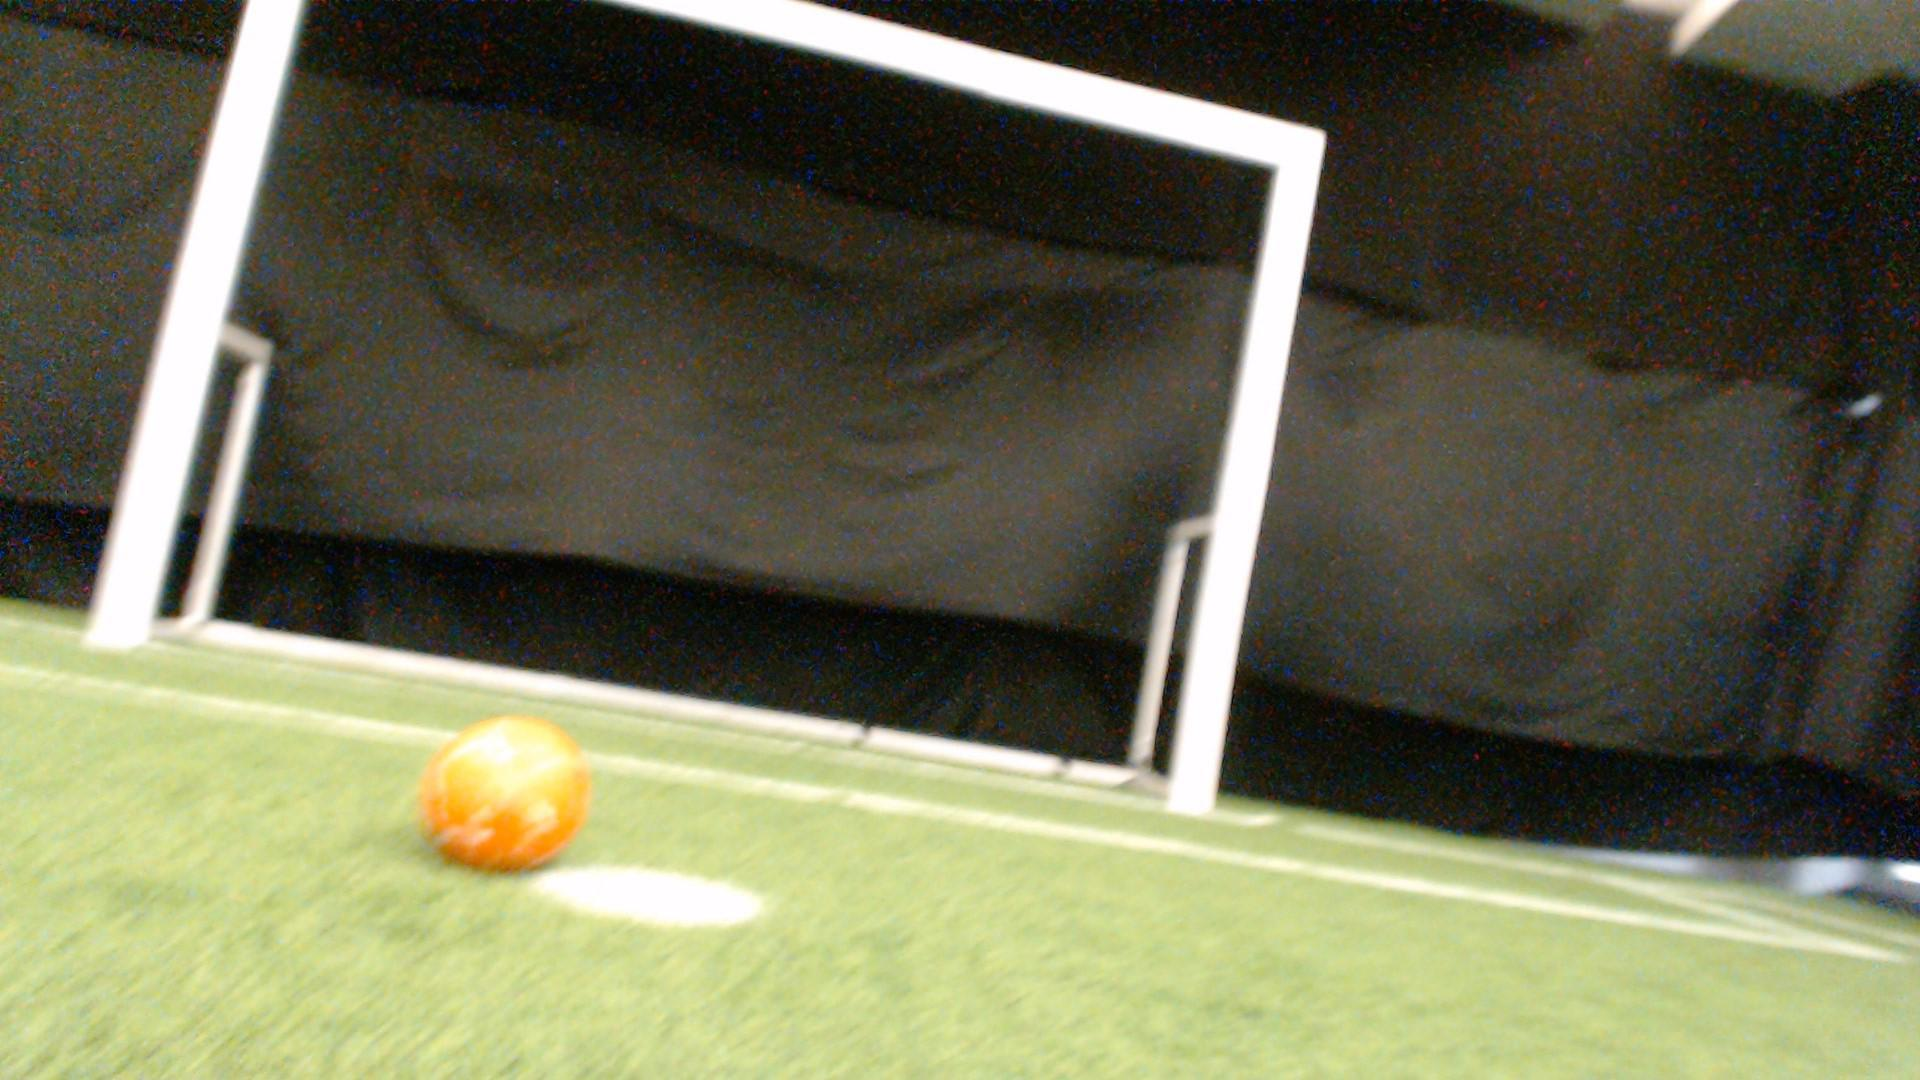bola: (401, 695, 609, 893)
